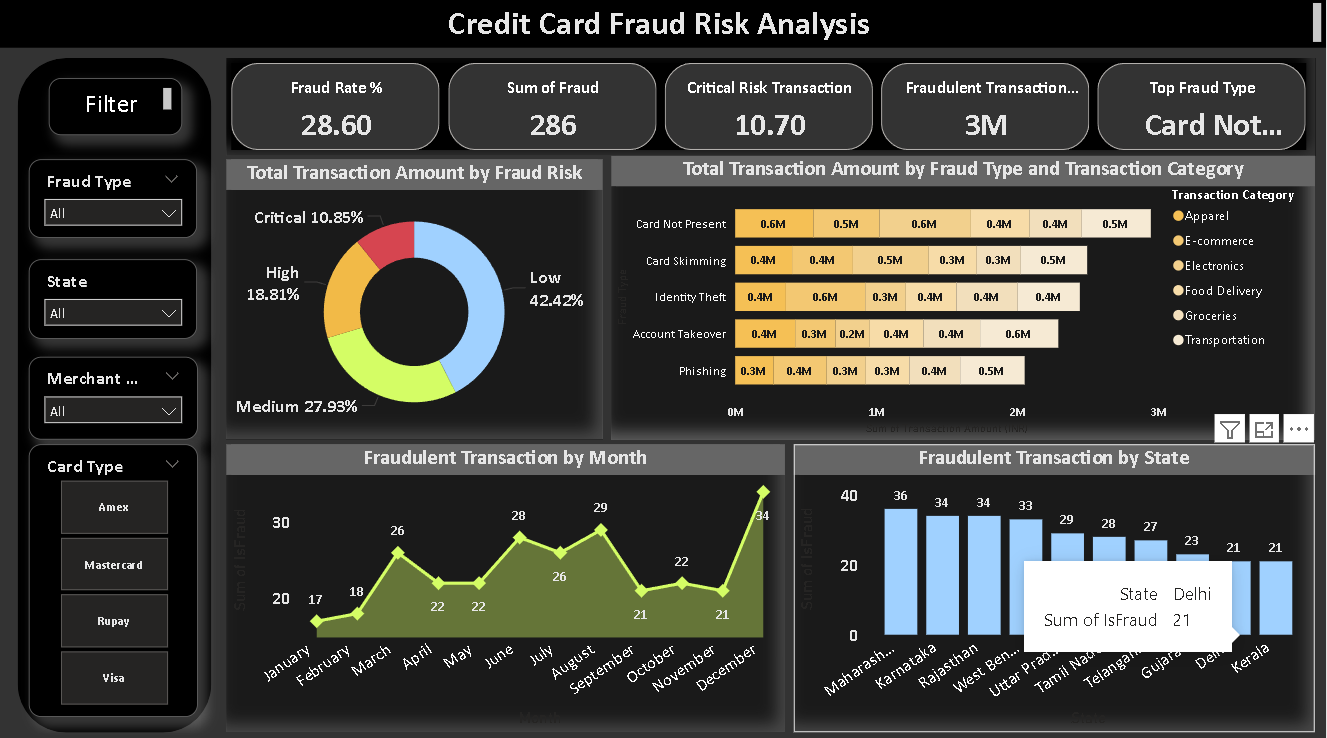

The page's visual inventory and layout, read from the dashboard file:
{"tool":"powerbi","page":{"name":"Page 1","canvas":[1280,720],"ordinal":0},"visuals":[{"type":"textbox","box":[0,0,1280.3,48],"z":0},{"type":"shape","box":[17.1,57.5,187.3,651.1],"z":1000},{"type":"textbox","box":[47,77.3,128.5,55.1],"z":2000},{"type":"barChart","title":"Total Transaction Amount  by Fraud Type and Transaction Category","fields":{"Series":["Credit Card Fraud Risk Analysis.Transaction Category"],"Category":["Credit Card Fraud Risk Analysis.Fraud Type"],"Y":["Sum(Credit Card Fraud Risk Analysis.Transaction Amount (INR))"]},"box":[589.9,151.8,679.3,274.2],"z":3000},{"type":"donutChart","title":"Total Transaction Amount by Fraud Risk","fields":{"Y":["Sum(Credit Card Fraud Risk Analysis.Transaction Amount (INR))"],"Category":["Credit Card Fraud Risk Analysis.Fraud Risk"]},"box":[218.4,155.6,363.1,270.2],"z":4000},{"type":"clusteredColumnChart","title":"Fraudulent Transaction by State","fields":{"Category":["Credit Card Fraud Risk Analysis.State"],"Y":["Sum(Credit Card Fraud Risk Analysis.IsFraud)"]},"box":[766.2,430.8,503,277.8],"z":5000},{"type":"lineChart","title":"Fraudulent Transaction by Month","fields":{"Y":["Sum(Credit Card Fraud Risk Analysis.IsFraud)"],"Category":["Credit Card Fraud Risk Analysis.Transaction Date.Variation.Date Hierarchy.Month"]},"box":[218.4,430.7,539.3,277.5],"z":6000},{"type":"slicer","fields":{"Values":["Credit Card Fraud Risk Analysis.Fraud Type"]},"box":[28.2,155.8,162.8,75.9],"z":7000},{"type":"slicer","fields":{"Values":["Credit Card Fraud Risk Analysis.State"]},"box":[28.2,252.5,162.8,77.1],"z":8000},{"type":"slicer","fields":{"Values":["Credit Card Fraud Risk Analysis.Merchant Name"]},"box":[27.7,346.2,162.9,79.6],"z":9000},{"type":"cardVisual","fields":{"Data":["Credit Card Fraud Risk Analysis.Fraud Rate %","Sum(Credit Card Fraud Risk Analysis.IsFraud)","Credit Card Fraud Risk Analysis.Critical Risk Transaction","Credit Card Fraud Risk Analysis.Fraudulent Transaction Amount","Credit Card Fraud Risk Analysis.Top Fraud Type"]},"box":[218.4,57.9,1050.8,94.1],"z":10000},{"type":"slicer","fields":{"Values":["Credit Card Fraud Risk Analysis.Card Type"]},"box":[27.7,430.7,162.9,263],"z":11000}]}

Visuals, with their boxes in screenshot pixels (x1, y1, x2, y2), scaled from the page's 1280x720 canvas onto the 1327x738 screenshot:
textbox: <box>0,0,1326,49</box>
shape: <box>18,59,212,726</box>
textbox: <box>49,79,182,136</box>
"Total Transaction Amount  by Fraud Type and Transaction Category" barChart: <box>612,156,1316,437</box>
"Total Transaction Amount by Fraud Risk" donutChart: <box>226,159,603,436</box>
"Fraudulent Transaction by State" clusteredColumnChart: <box>794,442,1316,726</box>
"Fraudulent Transaction by Month" lineChart: <box>226,441,786,726</box>
slicer - Credit Card Fraud Risk Analysis.Fraud Type: <box>29,160,198,237</box>
slicer - Credit Card Fraud Risk Analysis.State: <box>29,259,198,338</box>
slicer - Credit Card Fraud Risk Analysis.Merchant Name: <box>29,355,198,436</box>
cardVisual - Credit Card Fraud Risk Analysis.Fraud Rate % x Sum(Credit Card Fraud Risk Analysis.IsFraud): <box>226,59,1316,156</box>
slicer - Credit Card Fraud Risk Analysis.Card Type: <box>29,441,198,711</box>
